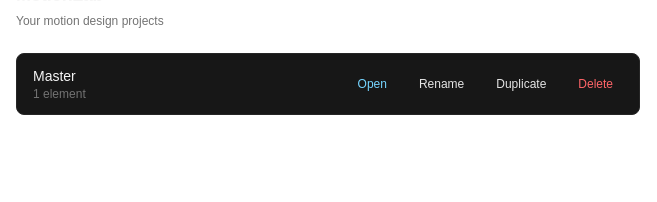
Test case: ProjectList — duplicate › duplicates a project with a new id, name, and timestamps
What coordinates should you click on to do the following:
click the button with aria-label "Duplicate Master"
I would click on:
 (521, 84)
Its box is [486, 72, 556, 96].
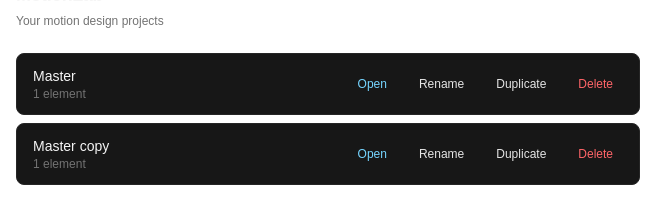
Expected: the text "Master copy" is shown, [33, 138, 109, 154]
